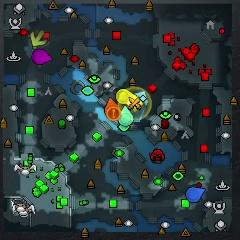Other: (127, 95, 142, 111), (107, 107, 120, 121)
p1: (186, 187, 206, 203)
p2: (118, 106, 134, 127)
p3: (32, 49, 52, 64)
p4: (116, 88, 133, 104)
p5: (105, 97, 119, 113)
x2: (30, 30, 46, 46)
x3: (134, 91, 148, 106)
